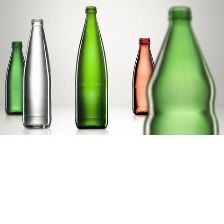bottle: (140, 3, 221, 136), (71, 2, 110, 132), (19, 15, 54, 130), (126, 33, 159, 119), (2, 37, 30, 120)
